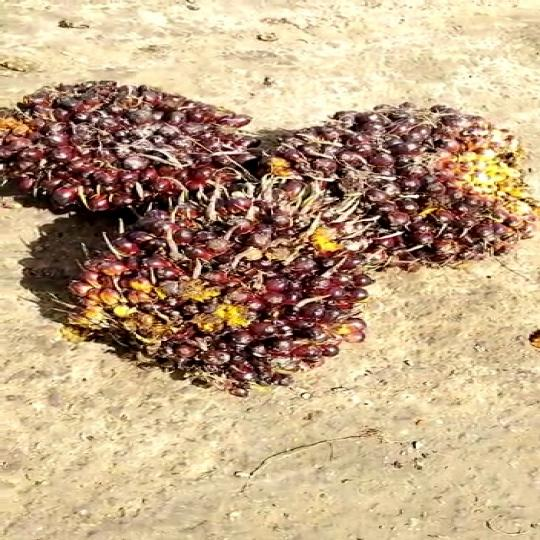kurang masak: (60, 166, 375, 394), (228, 90, 540, 274), (0, 66, 248, 215)
